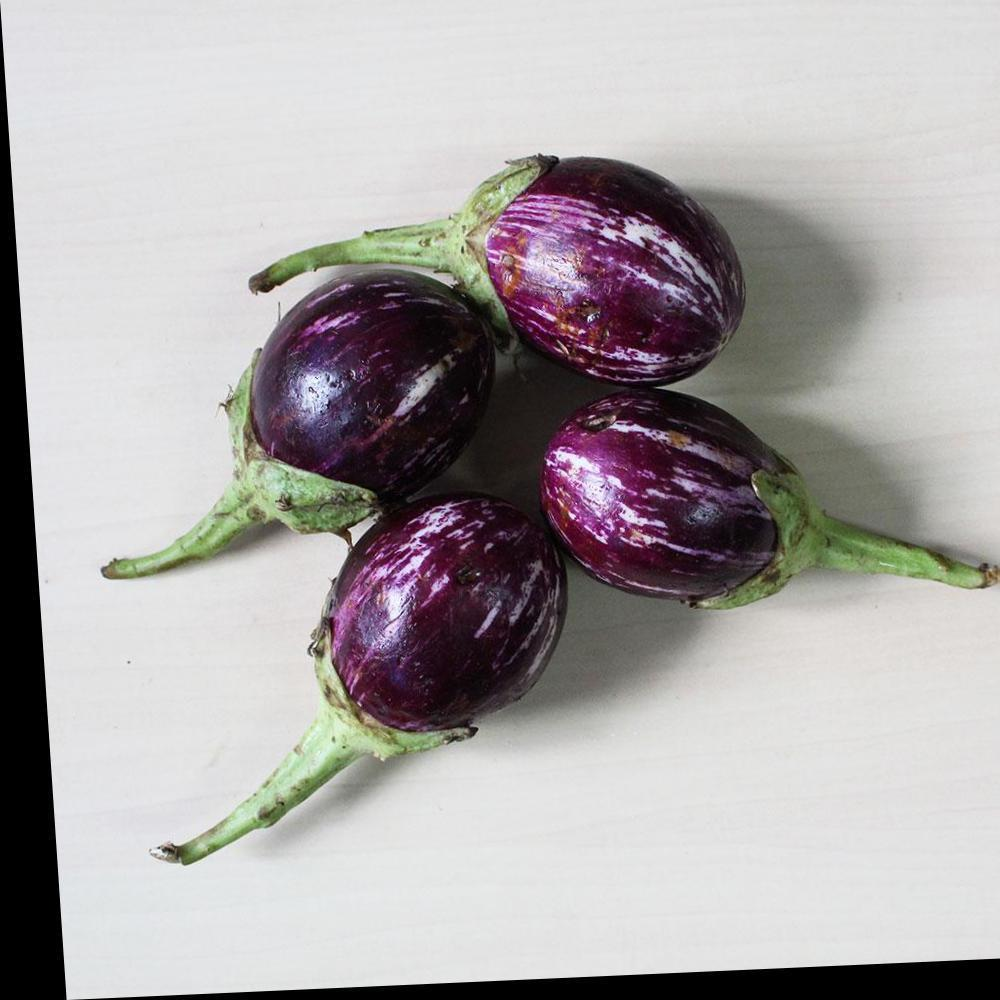eggplant: (95, 430, 679, 898), (21, 184, 556, 598), (278, 88, 840, 387), (518, 373, 982, 677)
